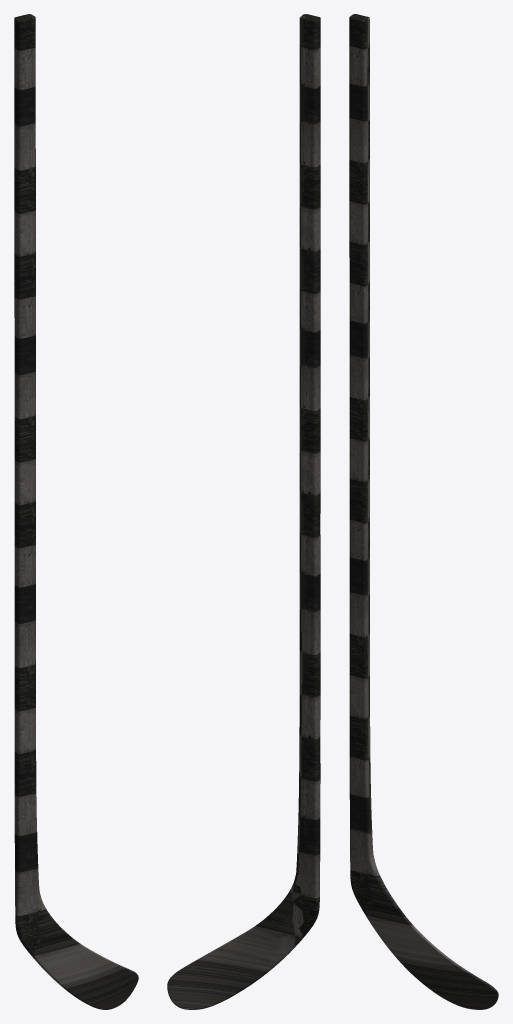
The picture shows the model from 3 angles, left to right: view 1: azimuth 30°, elevation 25°; view 2: azimuth 150°, elevation 25°; view 3: azimuth 330°, elevation 25°; orthographic projection. The views are drawn at different scales.
Parts seen in each view (by area): view 1: geometry_0; view 2: geometry_0; view 3: geometry_0.
Boxes of the visible parts, x1,y1,x2,y2 form: geometry_0: (14, 14, 138, 1009); geometry_0: (167, 14, 320, 1009); geometry_0: (349, 14, 498, 1009).
Size of the model in its own units: 233 by 1650 by 63.78.
1 material, 1 textured.
